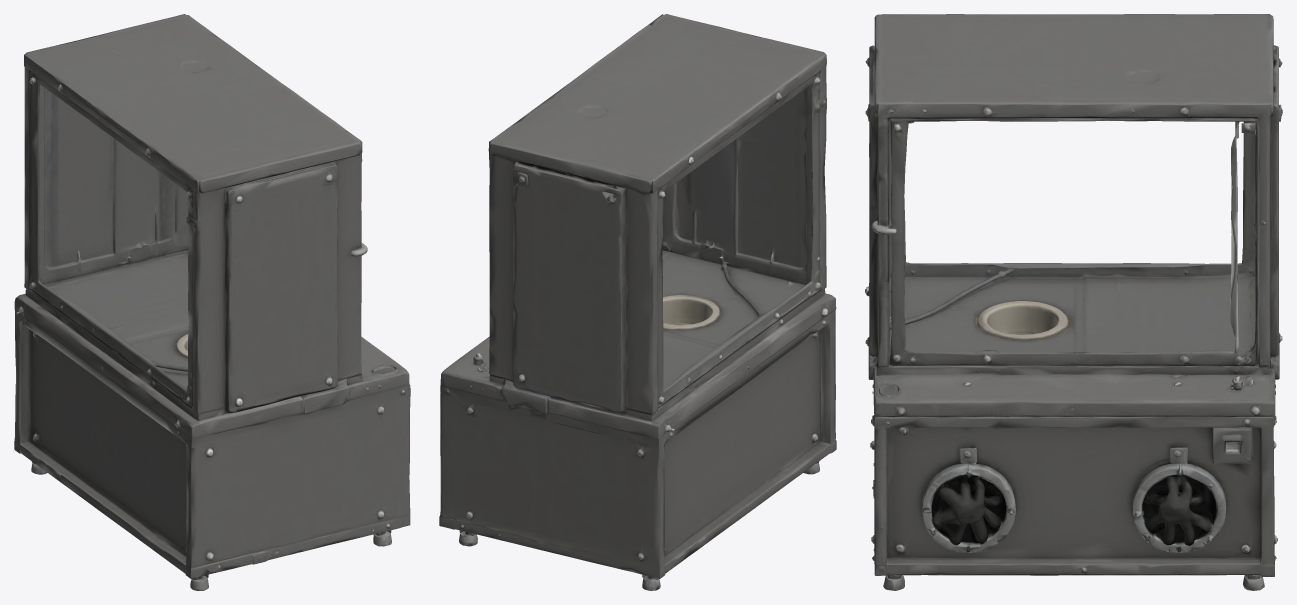
Rendered from glovebox.glb.
The picture shows the model from 3 angles, left to right: view 1: azimuth 30°, elevation 25°; view 2: azimuth 150°, elevation 25°; view 3: azimuth 270°, elevation 25°; orthographic projection. The views are drawn at different scales.
Visible parts, largest first — view 1: tripo_node_275853d0-8686-4086-a6be-01650f4e45e1; view 2: tripo_node_275853d0-8686-4086-a6be-01650f4e45e1; view 3: tripo_node_275853d0-8686-4086-a6be-01650f4e45e1.
Boxes of the visible parts, x1,y1,x2,y2 form: tripo_node_275853d0-8686-4086-a6be-01650f4e45e1: (14,14,410,590); tripo_node_275853d0-8686-4086-a6be-01650f4e45e1: (439,14,836,590); tripo_node_275853d0-8686-4086-a6be-01650f4e45e1: (865,14,1282,590).
Bounding box in the file's own units: 0.6005 × 0.981 × 0.7934.
1 material, 1 textured.
